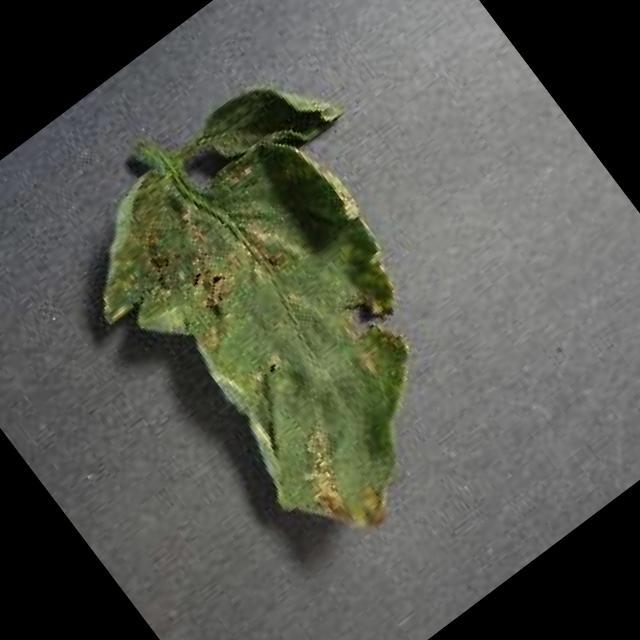Tomato bacterial spot leaf: (40, 45, 566, 596)
